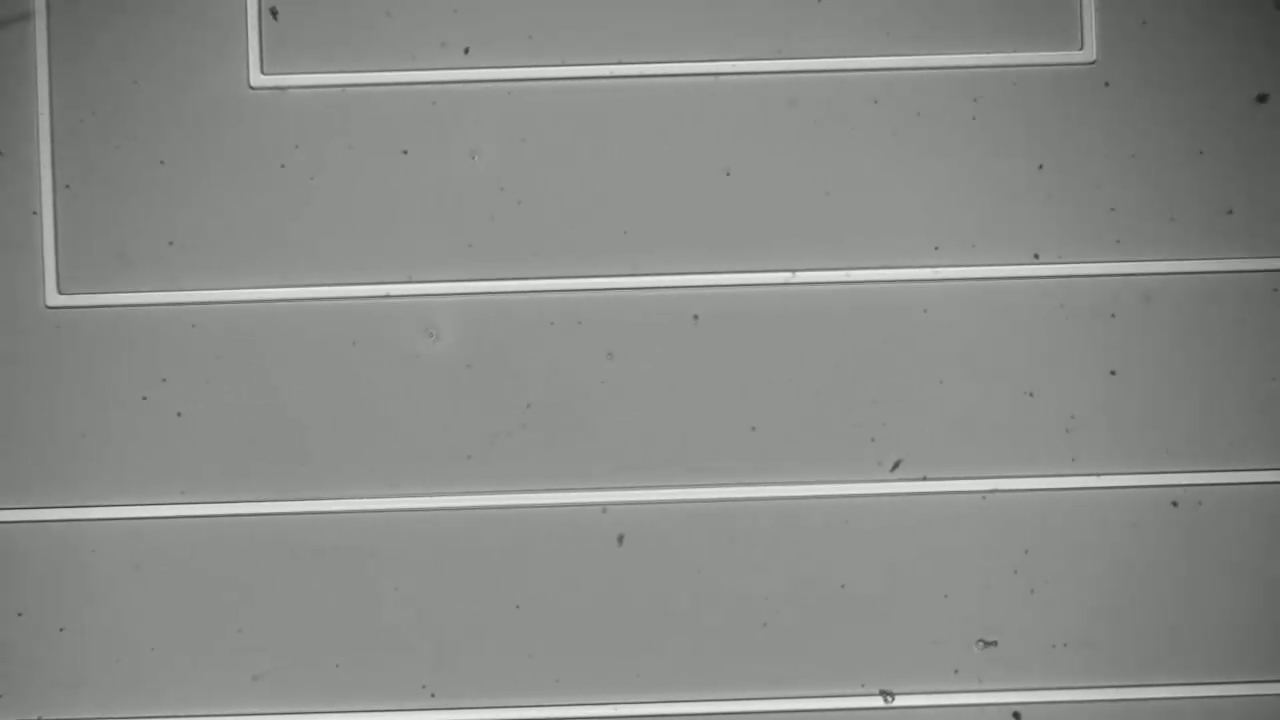stains_enbedded: (872, 683, 904, 716)
